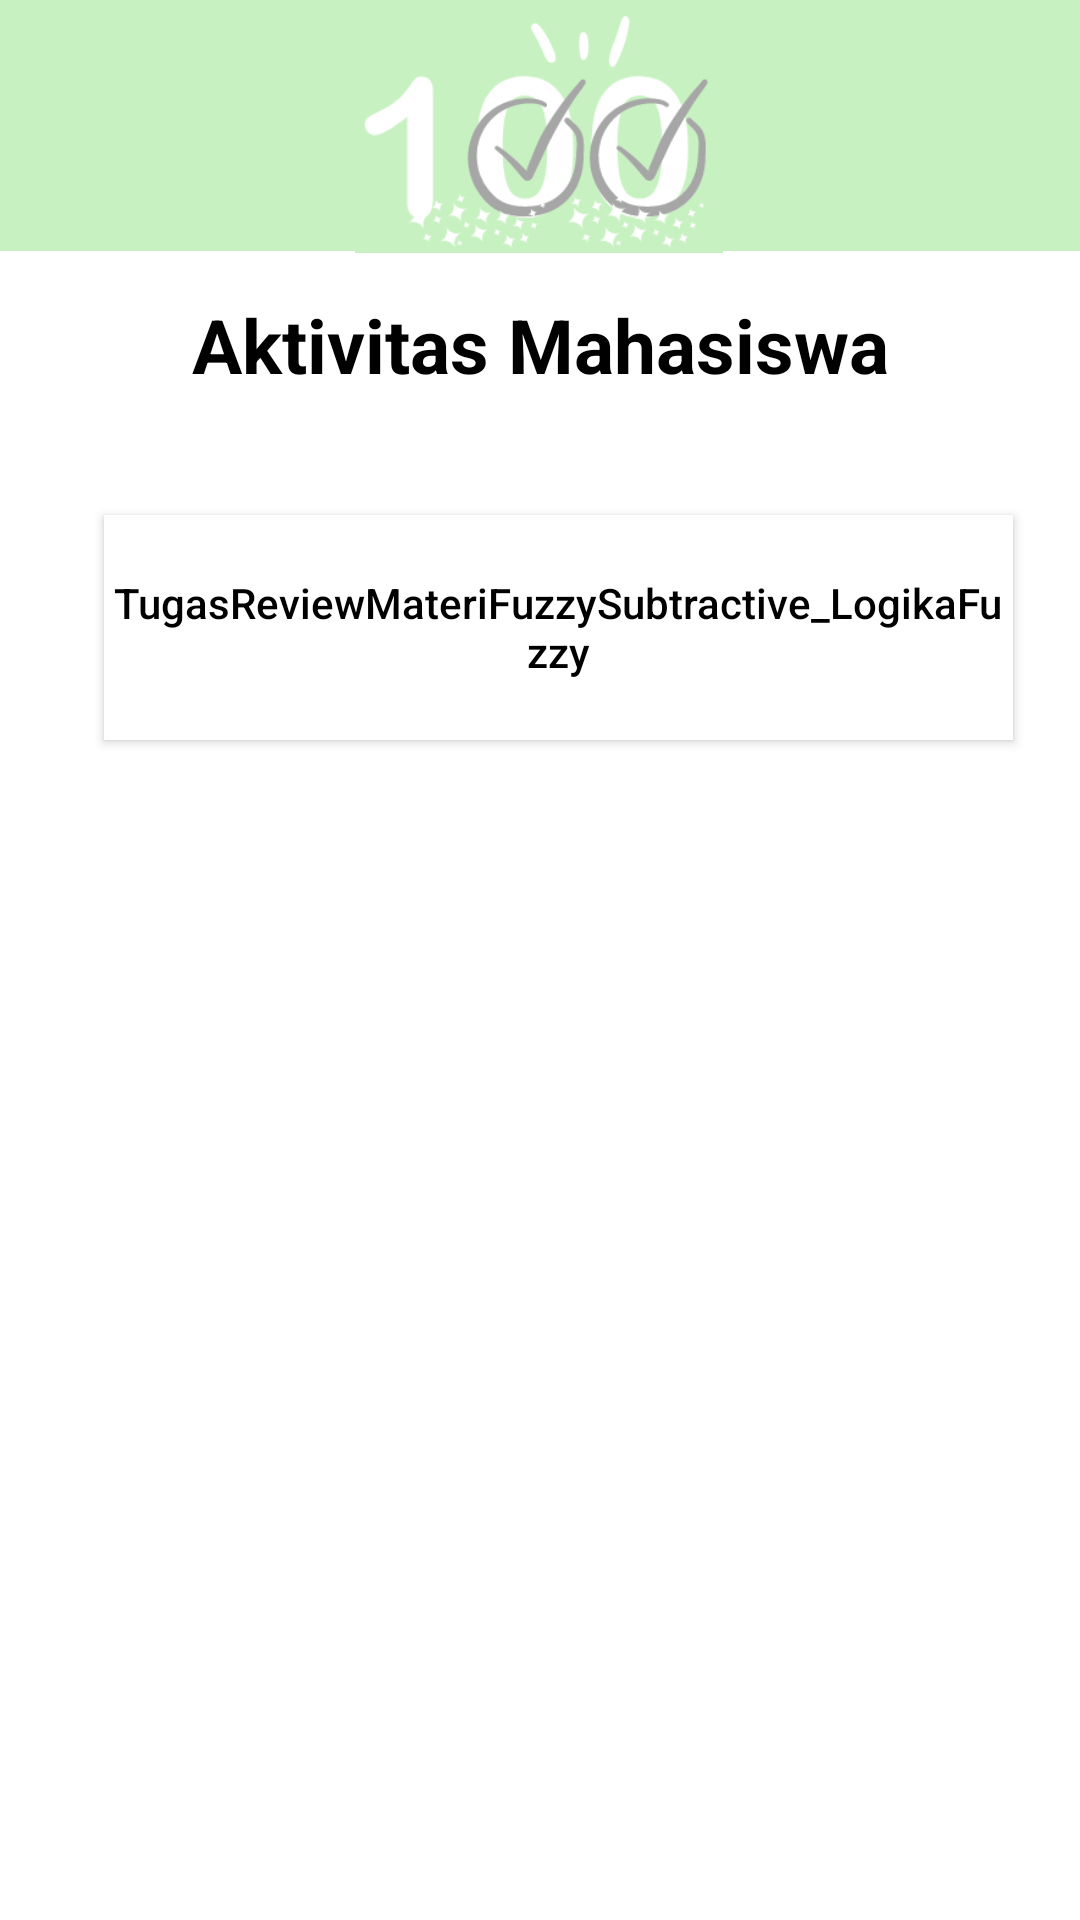

Screen size 1080*1920. Icon name, then its box in pixels as region(x1, y1, x2, y2):
headerdotask: region(365, 16, 708, 246)
